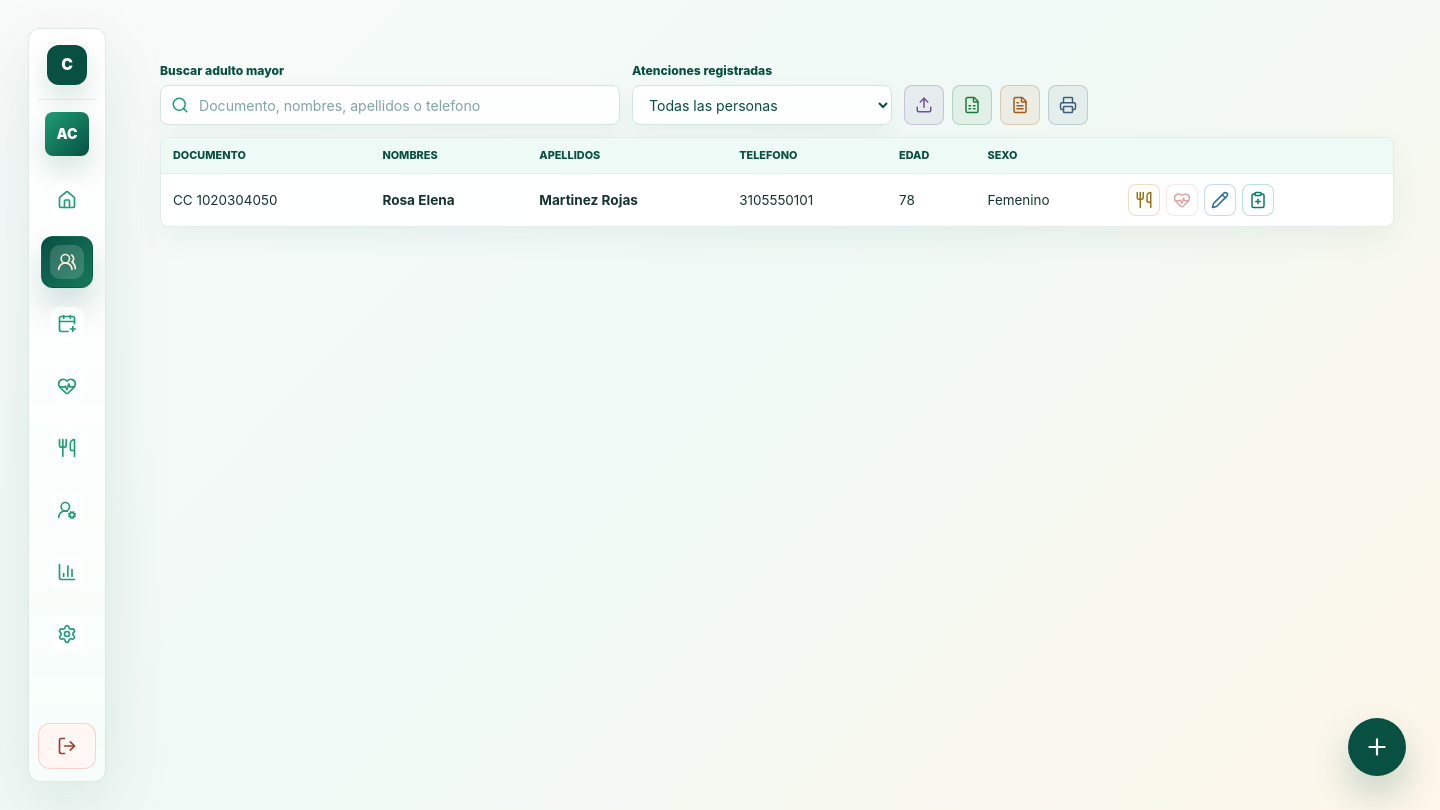
Test: App atenciones flow › opens historia clinica for admin users and reuses the attention view in read-only mode
Click the button named "Historia clinica de Rosa Elena Martinez Rojas".
click(1258, 200)  # box [1242, 184, 1274, 216]
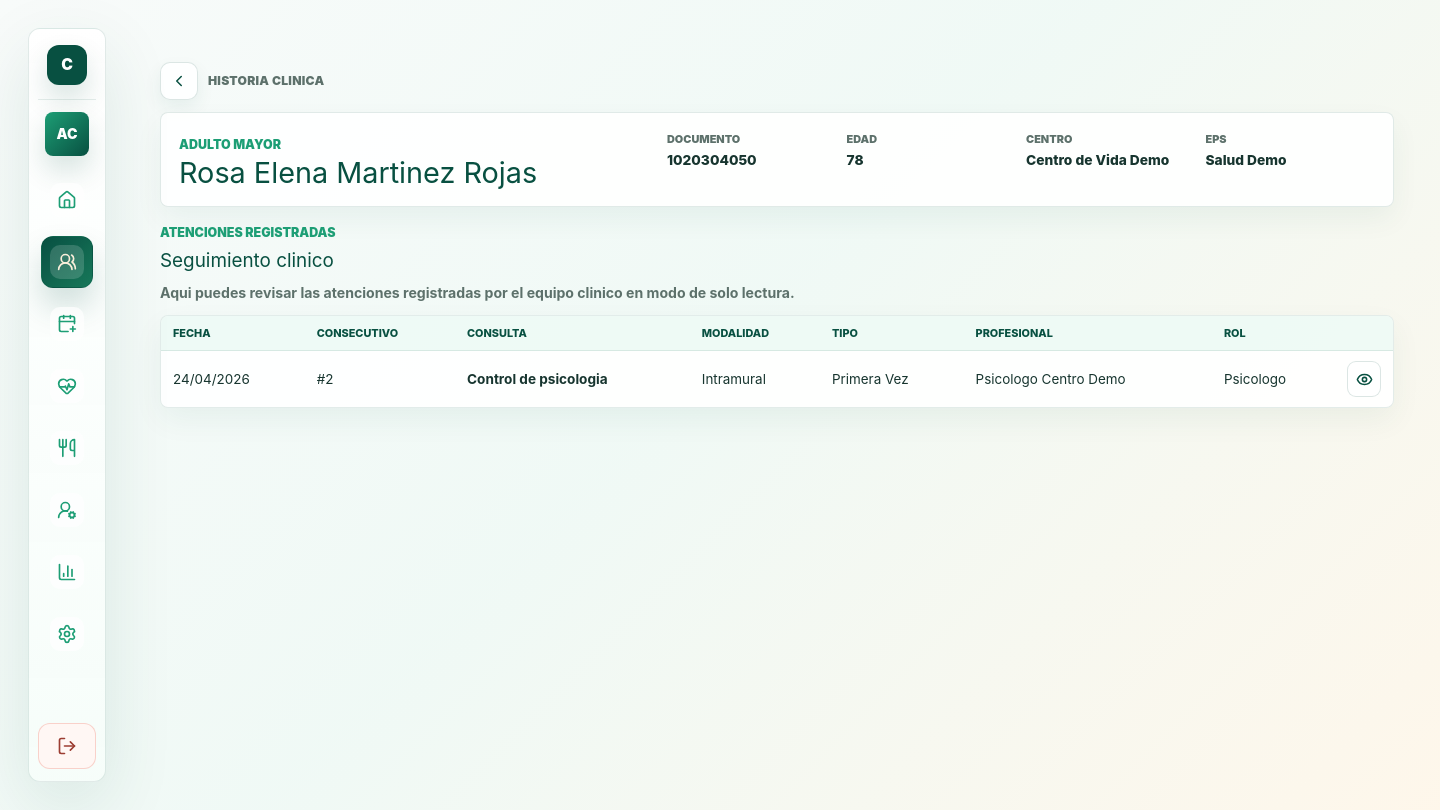
Check: the heading "Seguimiento clinico" is shown, box [160, 249, 334, 272]
Click the button named "Ver".
click(1364, 379)  # box [1347, 361, 1381, 397]
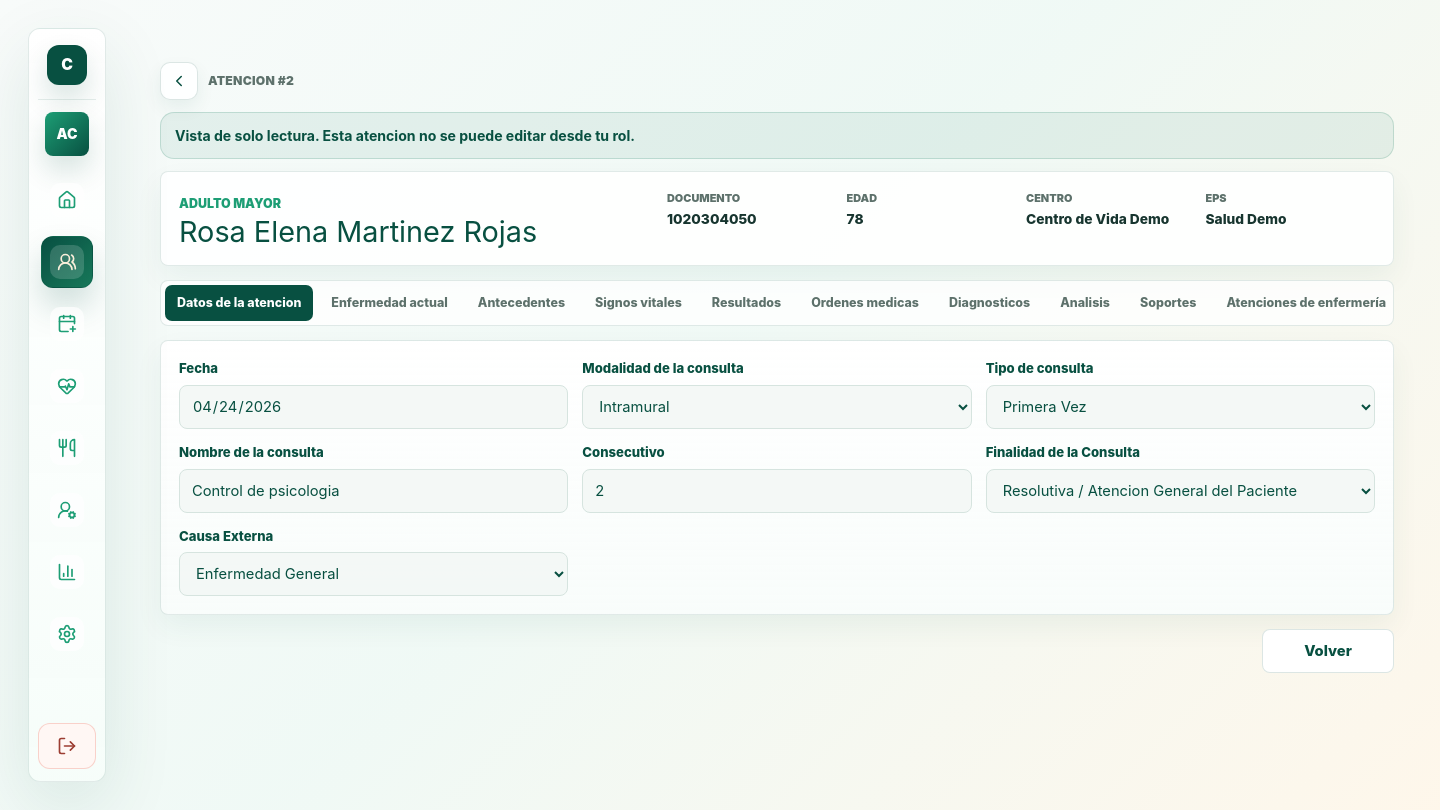
Check: the button named "Volver" next to "Atencion #" is shown, box [160, 62, 198, 100]
Check: the text "Vista de solo lectura. Esta atencion no se puede editar desde tu rol." is shown, box [160, 112, 1394, 159]
